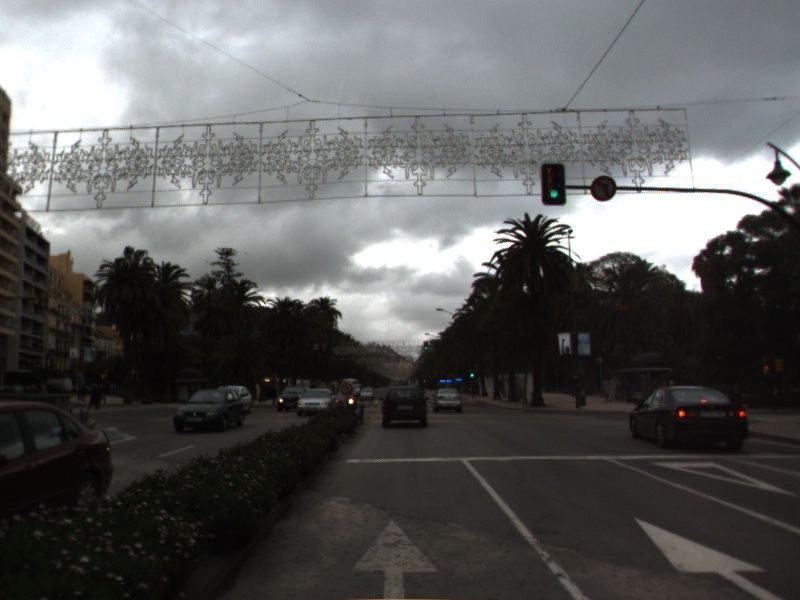STRAIGHT: (630, 513, 787, 600), (348, 515, 444, 600)
